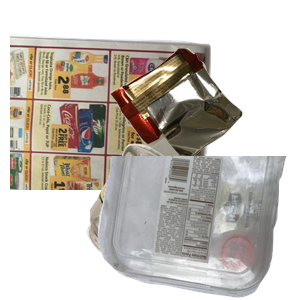glass: (85, 141, 275, 300)
paper: (10, 31, 214, 211)
plastic: (95, 156, 300, 300)
trash: (107, 46, 300, 198)
